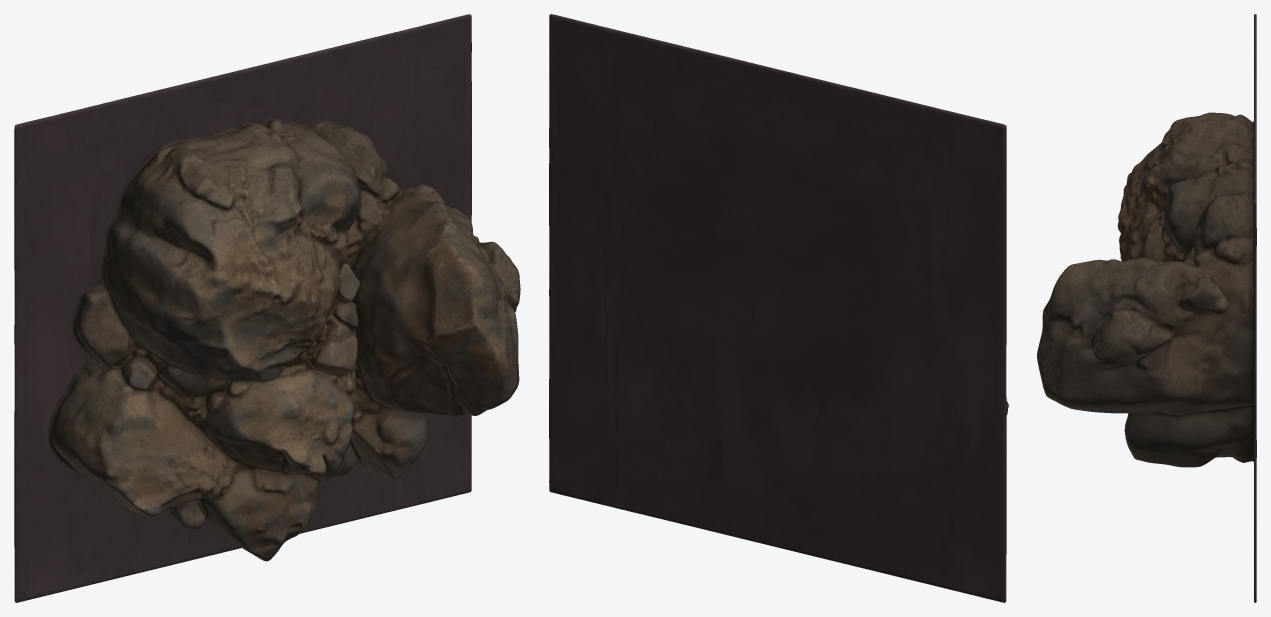
Rendered from SM_Rock_Boulder_B.glb.
3 views of the same model, side by side, from view 1: azimuth 30°, elevation 25°; view 2: azimuth 150°, elevation 25°; view 3: azimuth 270°, elevation 25° (orthographic). The views are drawn at different scales.
Parts seen in each view (by area): view 1: world; view 2: world; view 3: world.
Boxes of the visible parts, <box> form: world: <box>14,14,520,602</box>; world: <box>549,14,1008,602</box>; world: <box>1037,14,1256,602</box>.
Bounding box in the file's own units: 1 × 0.9999 × 0.4954.
Materials: 1 (1 with a texture image).
